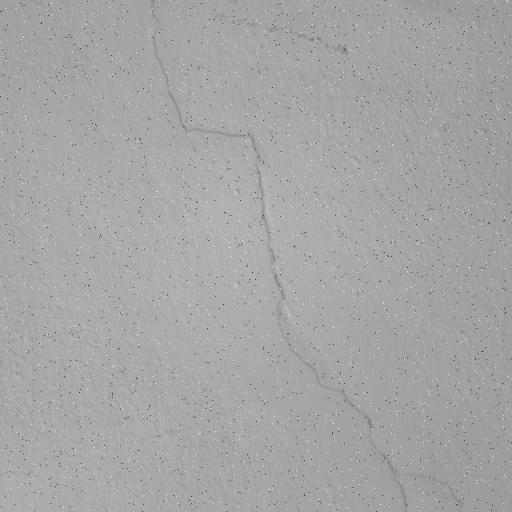severe crack: (148, 0, 466, 512)
